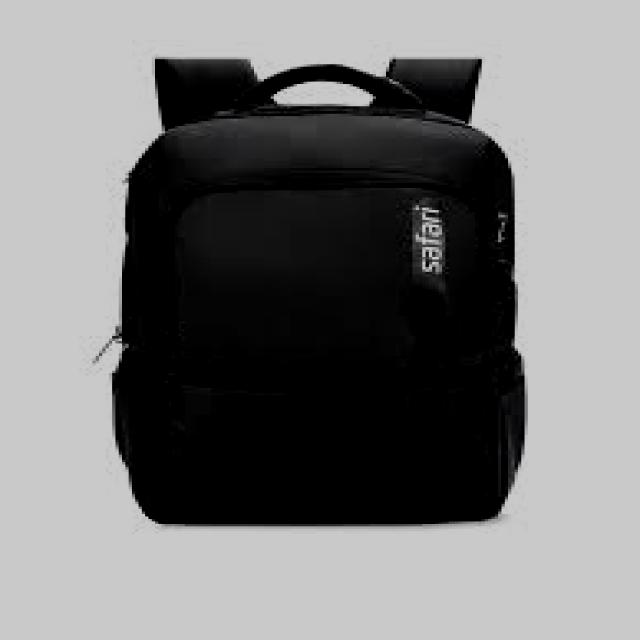backpack: (107, 58, 529, 525)
